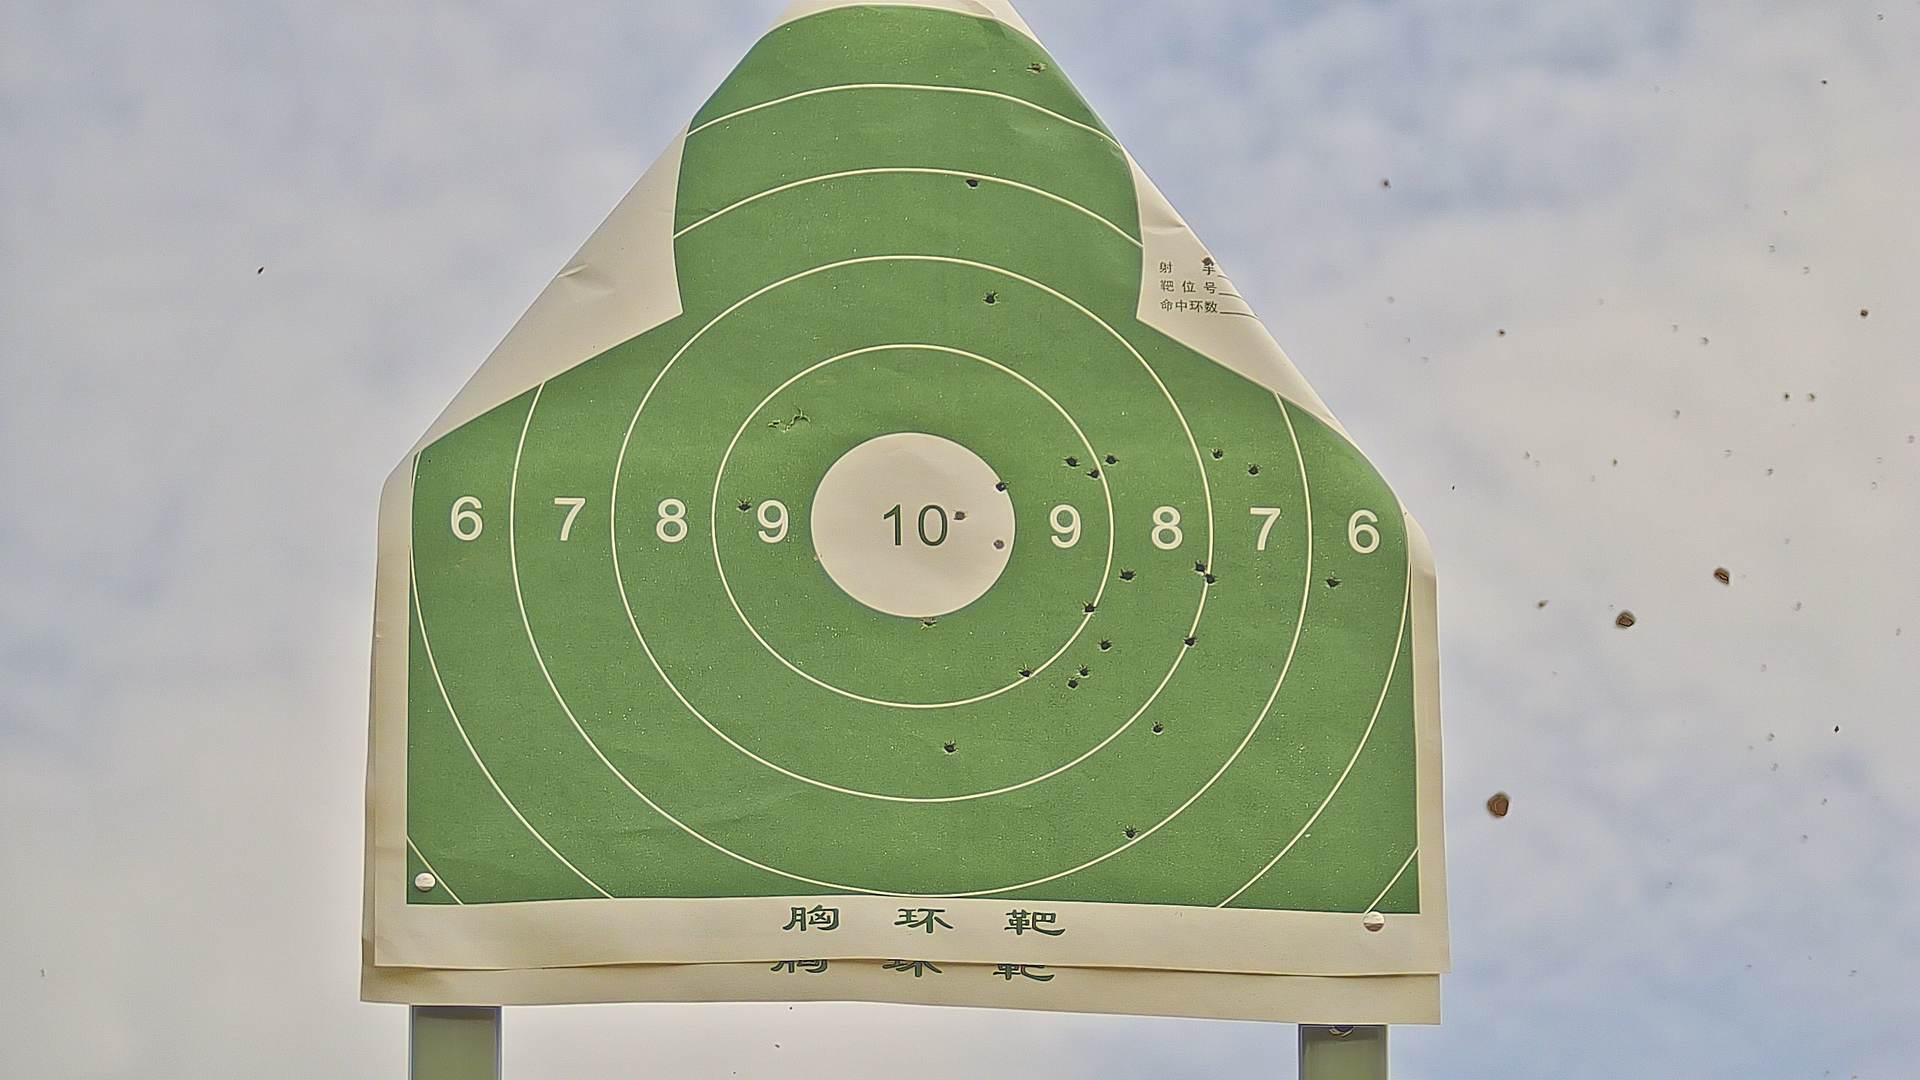hole: (978, 284, 1001, 307), (1321, 574, 1346, 595), (938, 736, 964, 756), (949, 506, 973, 527), (1145, 716, 1168, 737), (1120, 822, 1142, 843), (993, 476, 1014, 497), (1101, 450, 1124, 469), (1245, 459, 1265, 481), (1116, 564, 1138, 584), (990, 533, 1010, 554), (1183, 632, 1203, 653), (963, 173, 982, 193), (1084, 465, 1102, 487), (1096, 636, 1117, 654), (1065, 674, 1084, 695), (732, 497, 758, 512), (1083, 596, 1098, 620), (1077, 662, 1097, 680), (1209, 444, 1226, 465), (1062, 452, 1077, 472), (1189, 556, 1208, 572), (1018, 663, 1036, 679), (1203, 568, 1217, 587), (1027, 61, 1046, 75), (920, 617, 935, 630)
kernel: (905, 522, 919, 527)
target: (409, 9, 1419, 909)
ten: (810, 429, 1022, 620)
